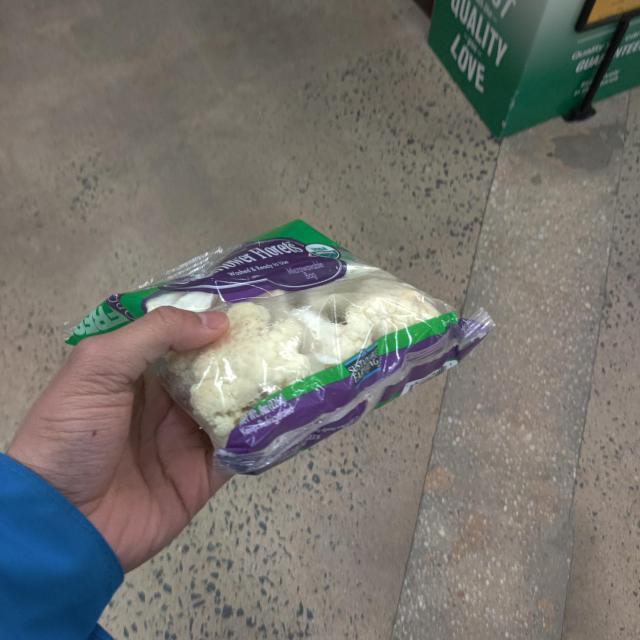Cauliflower: (69, 222, 488, 472)
